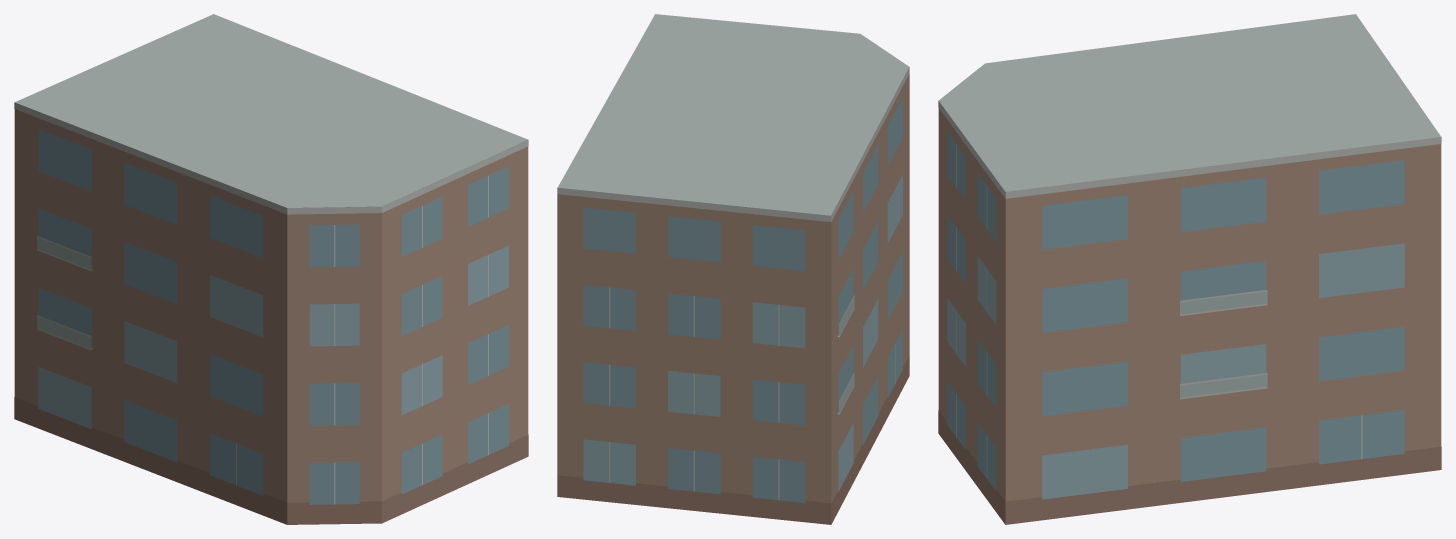
The model's file is survey-upis-32628999.glb.
3 renders of one model, left to right at view 1: azimuth 30°, elevation 25°; view 2: azimuth 150°, elevation 25°; view 3: azimuth 270°, elevation 25°, orthographic. The views are drawn at different scales.
Visible parts, largest first — view 1: survey-upis-32628999.tmp; view 2: survey-upis-32628999.tmp; view 3: survey-upis-32628999.tmp.
Boxes of the visible parts, x1,y1,x2,y2 form: survey-upis-32628999.tmp: (14,14,528,524); survey-upis-32628999.tmp: (557,14,909,524); survey-upis-32628999.tmp: (938,14,1441,524).
Bounding box in the file's own units: 13.54 × 11.8 × 16.17.
